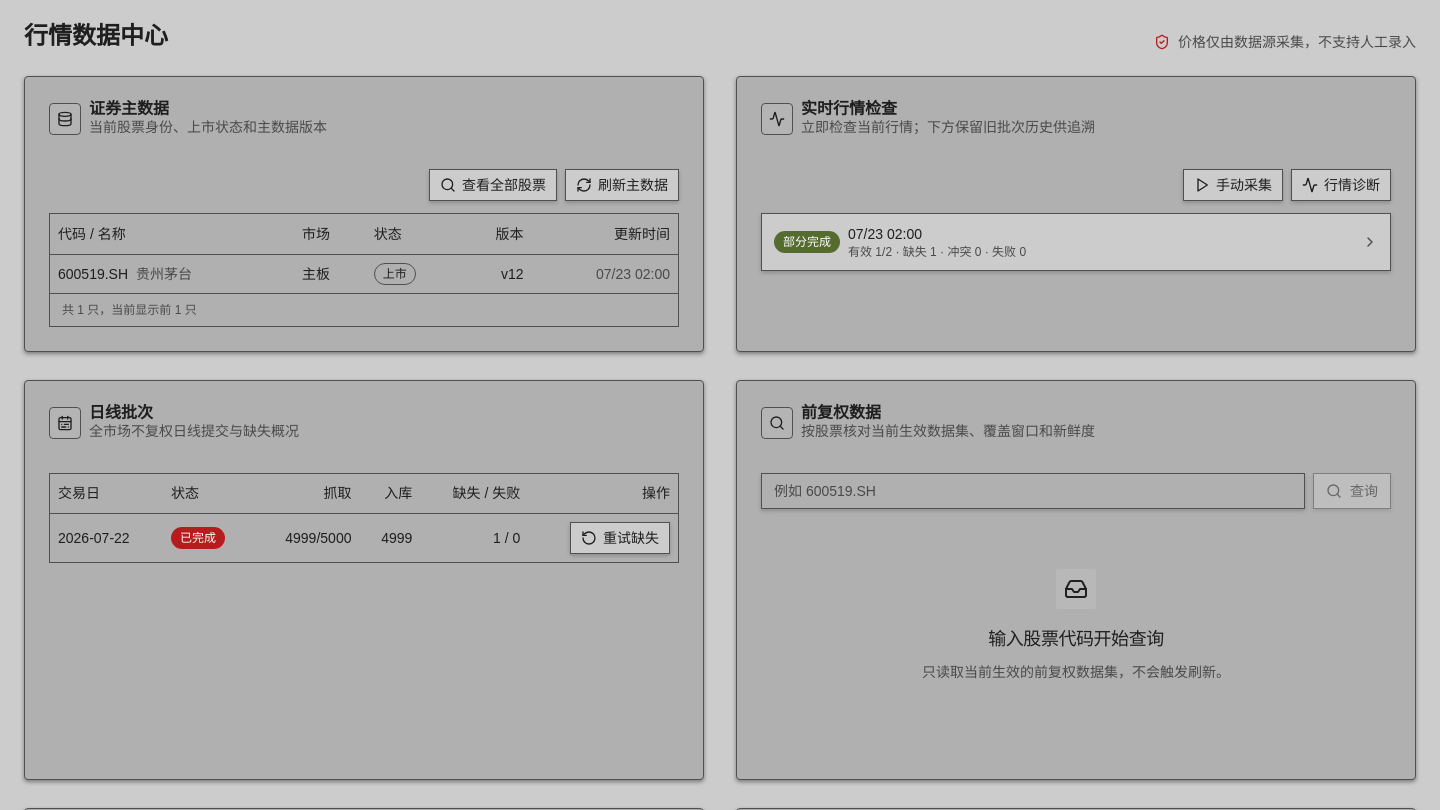
行情数据中心 › 日线重试提交确认原因且提交期间防止重复操作
Click the button "重试缺失". click: click(620, 538)
box: [570,522,670,554]
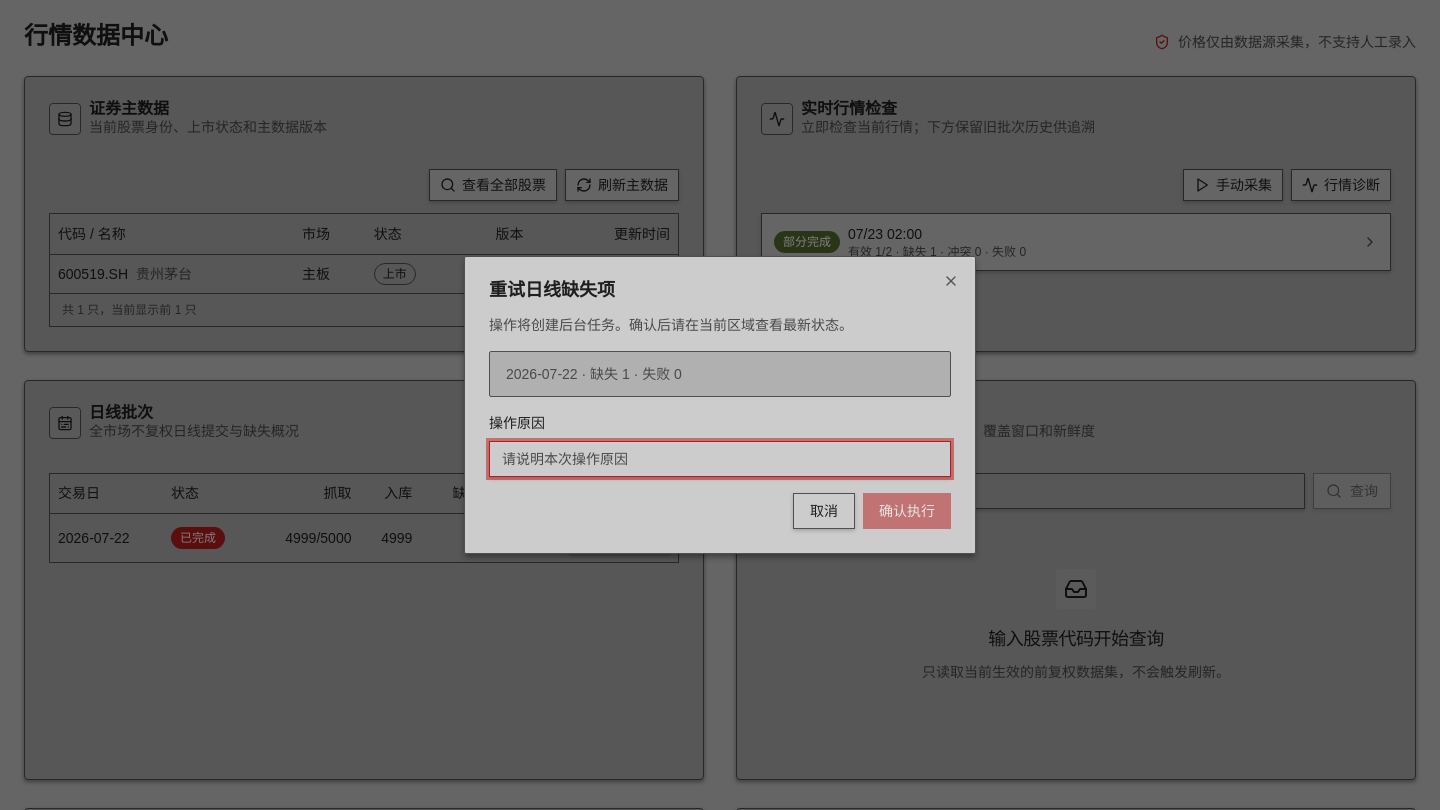
Type "补齐真实缺失项" into the field labelled "操作原因". click: (720, 459)
box: [489,441,951,477]
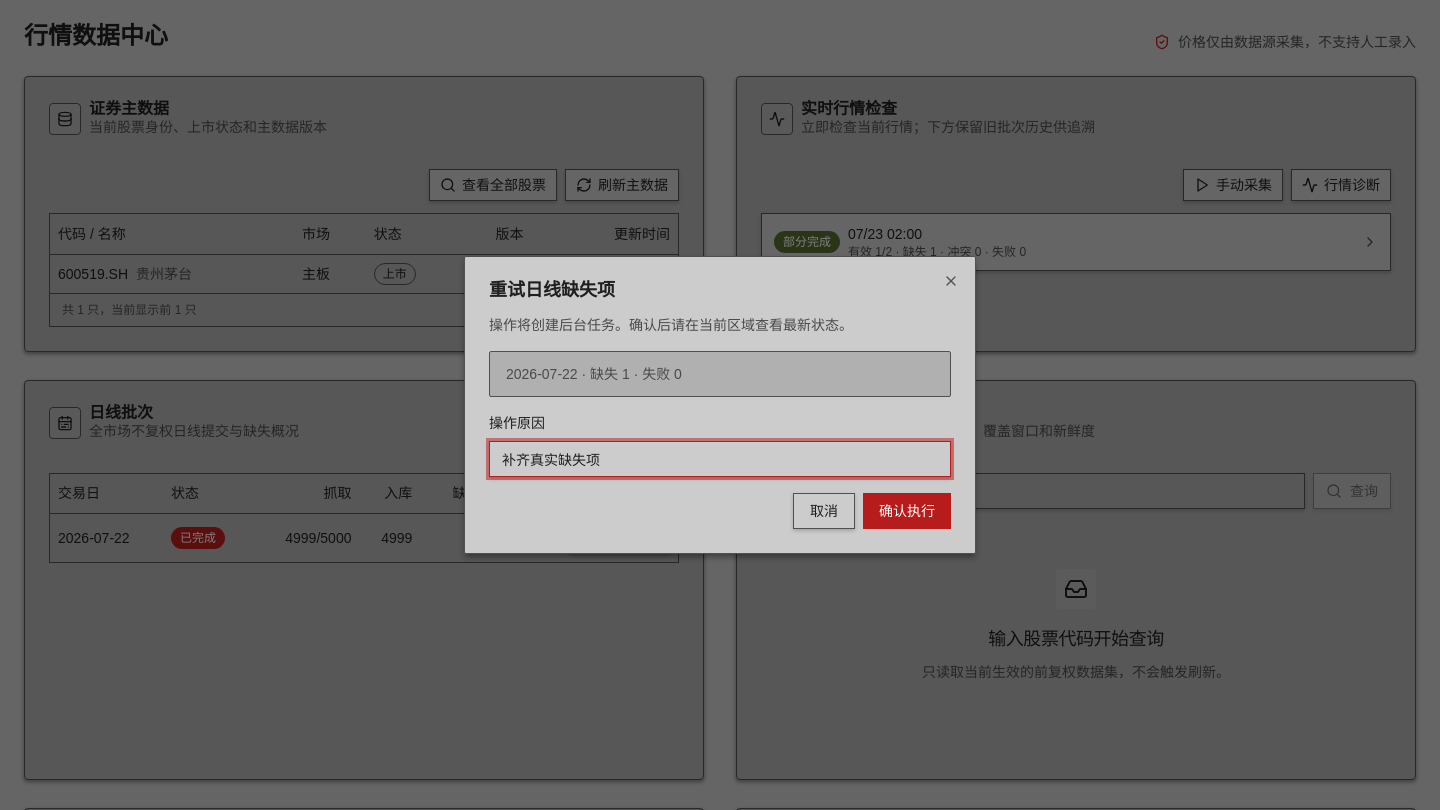
Click the button "确认执行". click: click(907, 511)
box: [863,493,951,529]
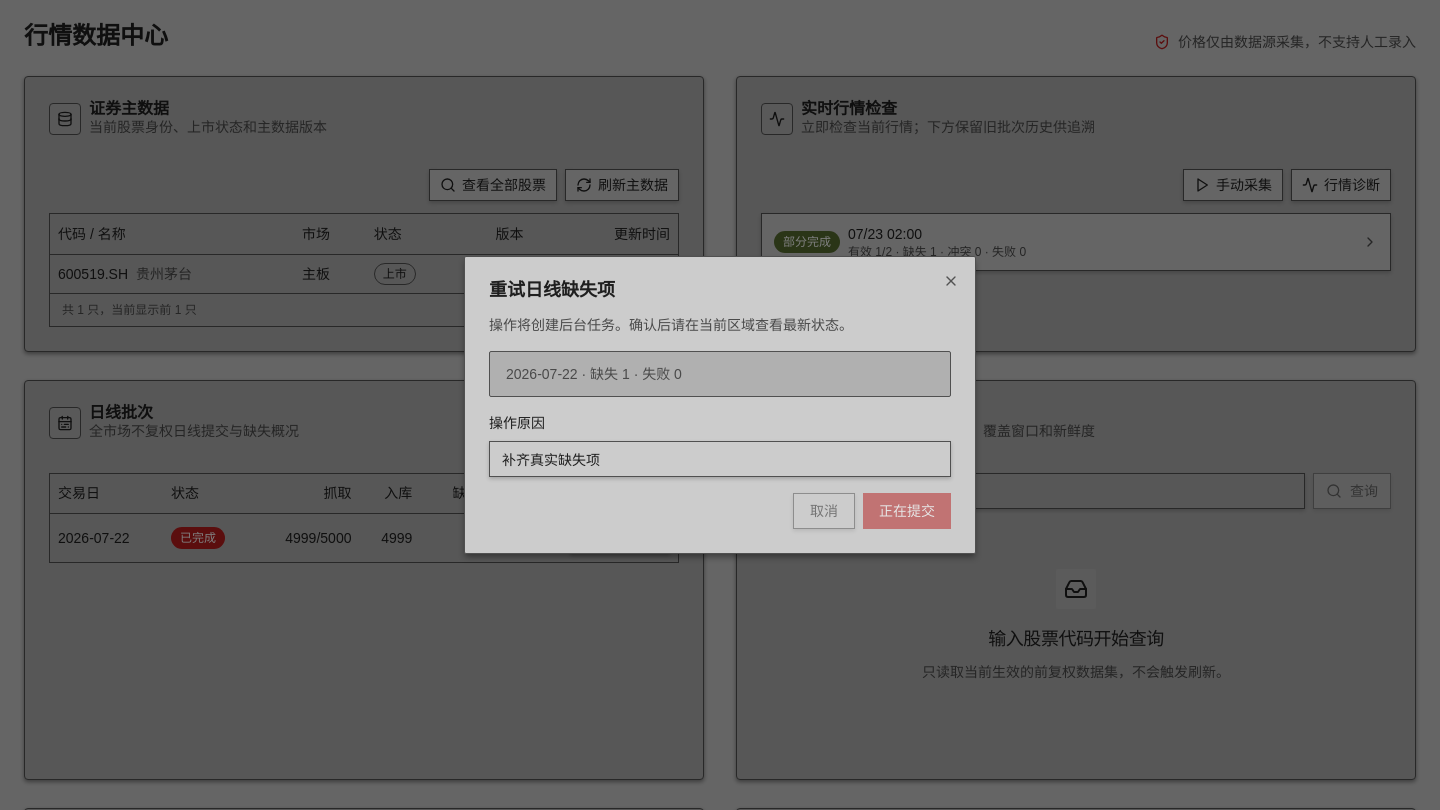
Check: the button "正在提交" is disabled, box [863,493,951,529]
